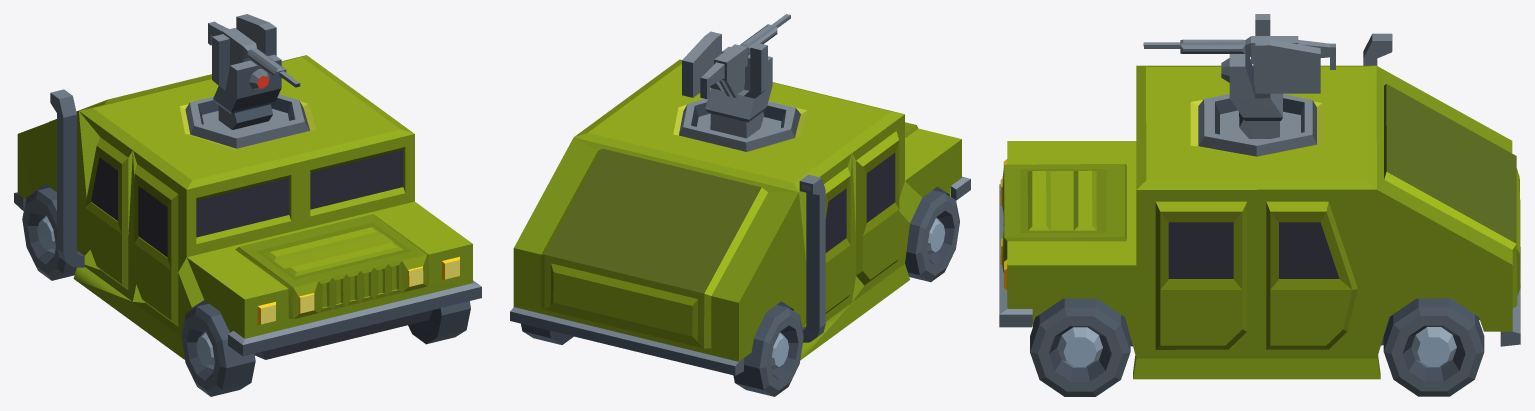
Rendered from Armored_Vehicles.fbx.
The picture shows the model from 3 angles, left to right: view 1: azimuth 30°, elevation 25°; view 2: azimuth 150°, elevation 25°; view 3: azimuth 270°, elevation 25°; orthographic projection. The views are drawn at different scales.
Parts seen in each view (by area): view 1: Armored_Vehicles; view 2: Armored_Vehicles; view 3: Armored_Vehicles.
Boxes of the visible parts, left/top/right/bottom form: Armored_Vehicles: left=14, top=14, right=481, bottom=396; Armored_Vehicles: left=510, top=14, right=970, bottom=396; Armored_Vehicles: left=999, top=14, right=1520, bottom=396.
Size of the model in its own units: 163 by 161 by 253.
1 material, 1 textured.
